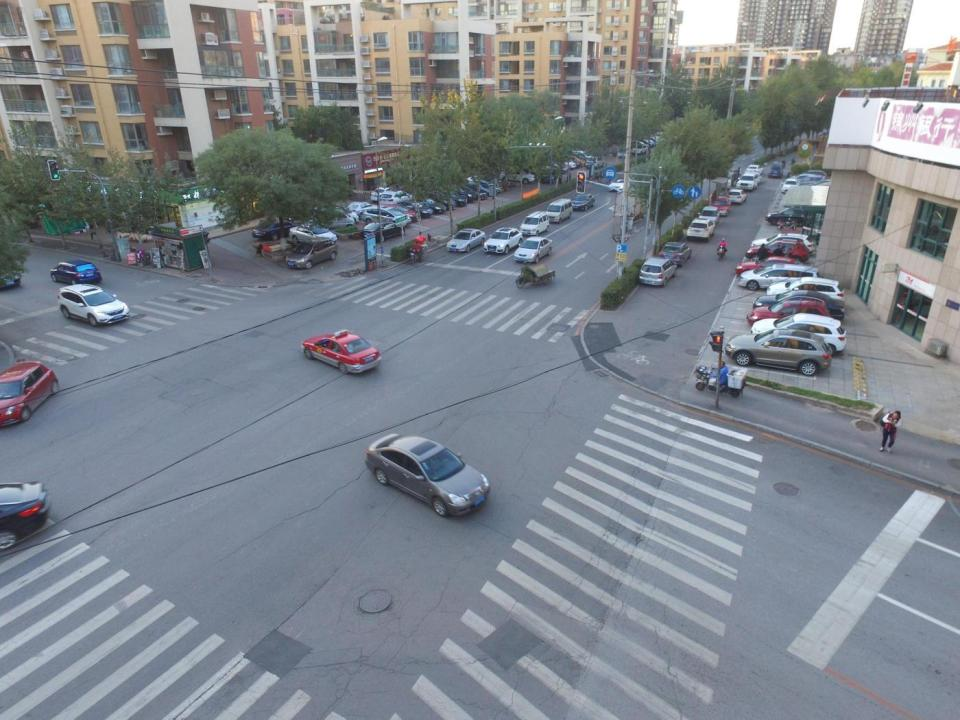car: (360, 429, 494, 516), (725, 328, 834, 375), (750, 315, 846, 356), (1, 360, 62, 424), (299, 329, 382, 375), (58, 282, 132, 326), (752, 290, 846, 324), (746, 300, 832, 332), (766, 277, 847, 310), (738, 261, 823, 290), (734, 255, 814, 283), (46, 256, 103, 292), (284, 236, 336, 269), (750, 233, 815, 257), (745, 239, 810, 262), (251, 217, 310, 241), (289, 221, 339, 249), (361, 204, 412, 229), (637, 256, 678, 287), (446, 224, 486, 254), (484, 225, 524, 254), (515, 235, 554, 264), (450, 179, 488, 206), (436, 181, 478, 205), (360, 220, 405, 241), (766, 208, 813, 228), (418, 188, 458, 211), (658, 241, 693, 267), (433, 184, 467, 208), (686, 216, 716, 243), (458, 178, 498, 198), (316, 205, 358, 224), (376, 202, 418, 221), (518, 211, 550, 235), (396, 198, 434, 218), (412, 194, 447, 215), (344, 201, 379, 220), (465, 174, 503, 191), (497, 168, 536, 184), (806, 182, 840, 198), (368, 184, 398, 202), (381, 190, 414, 206), (571, 192, 597, 211), (542, 156, 568, 175), (805, 179, 839, 193), (607, 176, 632, 194), (796, 174, 826, 189), (697, 206, 720, 225), (712, 197, 732, 216), (802, 169, 828, 183), (792, 174, 820, 187), (728, 187, 748, 205), (556, 154, 580, 168), (781, 176, 799, 194), (541, 169, 564, 183), (564, 153, 585, 167), (547, 158, 571, 170), (584, 156, 606, 169), (569, 150, 592, 162), (628, 140, 649, 153), (745, 162, 764, 176), (566, 152, 586, 165), (742, 172, 762, 185), (556, 156, 577, 168), (632, 143, 652, 155), (768, 163, 784, 178), (614, 148, 633, 159)
van: (308, 206, 357, 230), (545, 198, 575, 223), (736, 170, 760, 192)
